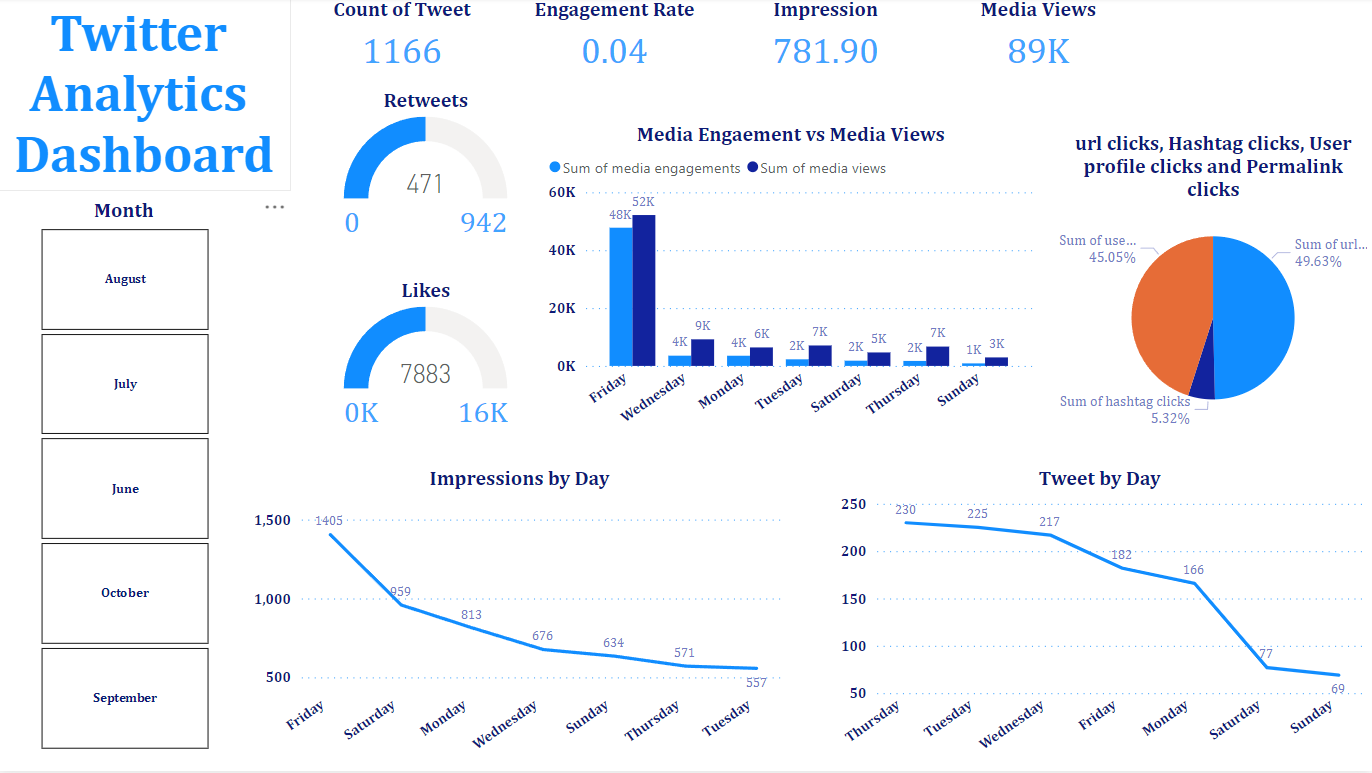

The dashboard page shown, as its layout file describes it:
{"tool":"powerbi","page":{"name":"Training","canvas":[1280,720],"ordinal":0},"visuals":[{"type":"textbox","box":[0,0,273.3,180.2],"z":0},{"type":"card","title":"Engagement Rate","fields":{"Values":["Avg(SocialMedia (1).engagement rate)"]},"box":[489.1,0,169.8,75.6],"z":1000},{"type":"card","title":"Count of Tweet","fields":{"Values":["SocialMedia (1).Total_Tweet"]},"box":[291.9,0,169.8,75.6],"z":2000},{"type":"card","title":"Impression","fields":{"Values":["Avg(SocialMedia (1).impressions)"]},"box":[686.4,0,169.8,75.6],"z":3000},{"type":"card","title":"Media Views","fields":{"Values":["Sum(SocialMedia (1).media views)"]},"box":[883.7,0,169.8,75.6],"z":4000},{"type":"slicer","title":"Month","fields":{"Values":["SocialMedia (1).MonthName"]},"box":[15.1,187.2,205.8,518.6],"z":5000},{"type":"lineChart","title":"Impressions by Day","fields":{"Y":["Avg(SocialMedia (1).impressions)"],"Category":["SocialMedia (1).DayName"]},"box":[233.7,436,504.7,283.7],"z":6000},{"type":"lineChart","title":"Tweet by Day","fields":{"Y":["SocialMedia (1).Total_Tweet"],"Category":["SocialMedia (1).DayName"]},"box":[770.9,436,509.3,283.7],"z":7000},{"type":"gauge","title":"Likes","fields":{"Y":["Sum(SocialMedia (1).likes)"],"MinValue":["Min(SocialMedia (1).likes)"]},"box":[291.9,261.6,214,148.8],"z":8000},{"type":"gauge","title":"Retweets","fields":{"Y":["Sum(SocialMedia (1).retweets)"],"MinValue":["Min(SocialMedia (1).retweets)"]},"box":[291.9,84.9,214,148.8],"z":9000},{"type":"clusteredColumnChart","title":"Media Engaement vs Media Views","fields":{"Category":["SocialMedia (1).DayName"],"Y":["Sum(SocialMedia (1).media engagements)","Sum(SocialMedia (1).media views)"]},"box":[508.1,116.3,460.5,298.8],"z":10000},{"type":"pieChart","title":"url clicks, Hashtag clicks, User profile clicks and Permalink clicks","fields":{"Y":["Sum(SocialMedia (1).url clicks)","Sum(SocialMedia (1).hashtag clicks)","Sum(SocialMedia (1).user profile clicks)","Sum(SocialMedia (1).permalink clicks)"]},"box":[982.6,124.4,297.7,283.7],"z":11000}]}

Visuals, with their boxes in screenshot pixels (x1, y1, x2, y2), scaled from the page's 1280x720 canvas onto the 1372x773 screenshot:
textbox: 0/0/293/193
"Engagement Rate" card: 524/0/706/81
"Count of Tweet" card: 313/0/495/81
"Impression" card: 736/0/918/81
"Media Views" card: 947/0/1129/81
"Month" slicer: 16/201/237/758
"Impressions by Day" lineChart: 250/468/791/772
"Tweet by Day" lineChart: 826/468/1371/772
"Likes" gauge: 313/281/542/441
"Retweets" gauge: 313/91/542/251
"Media Engaement vs Media Views" clusteredColumnChart: 545/125/1038/446
"url clicks, Hashtag clicks, User profile clicks and Permalink clicks" pieChart: 1053/134/1371/438
